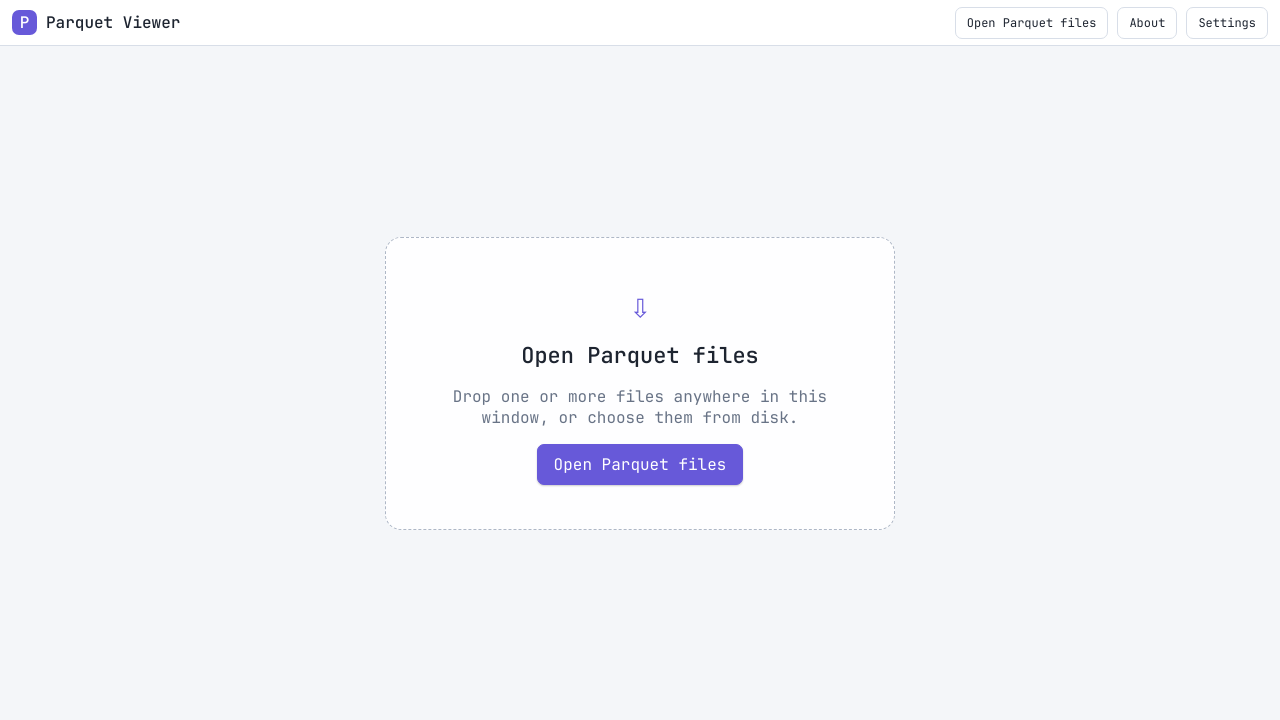
Scenario: opens picker files from the workspace toolbar
This screenshot has width=1280, height=720.
Click the button "Open Parquet files" in the row of "Parquet Viewer" at (1032, 22), box 955,6 -> 1108,38
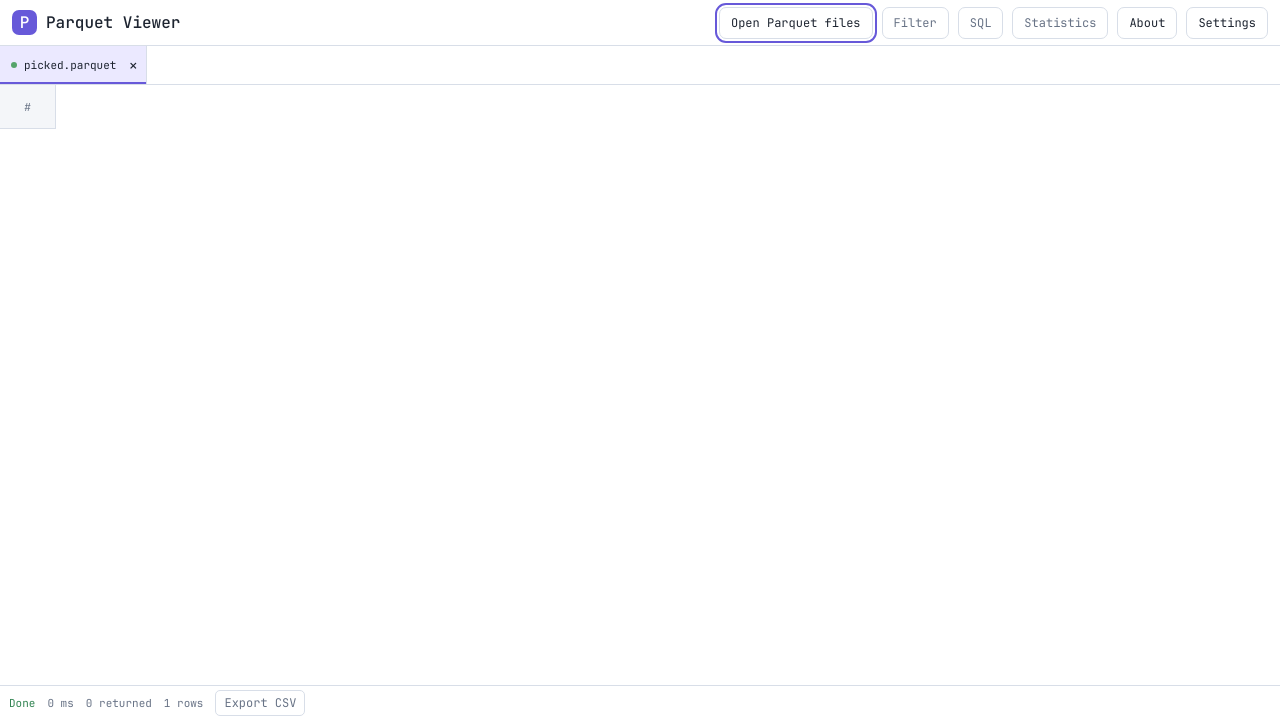
Result: the tab "picked.parquet" is shown at 0,46 -> 120,84
